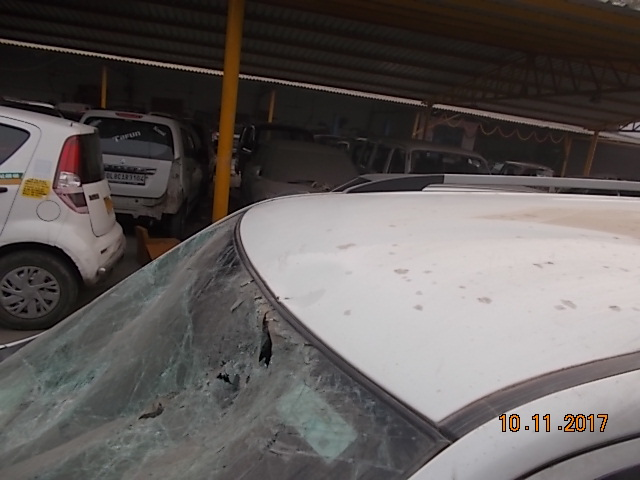Shatter: (1, 344, 304, 471), (134, 271, 236, 329), (200, 234, 220, 259)
